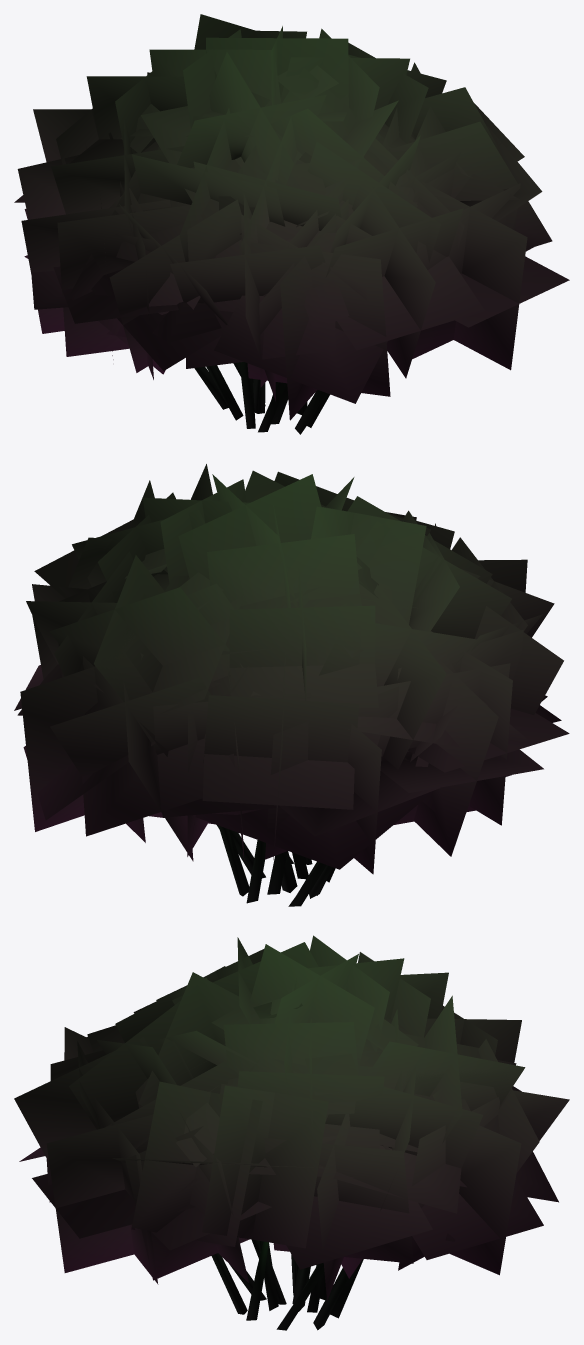
File: TSI_Amberleaf_Bush_01A.fbx
3 renders of one model, top to bottom at view 1: azimuth 30°, elevation 25°; view 2: azimuth 150°, elevation 25°; view 3: azimuth 270°, elevation 25°, orthographic. The views are drawn at different scales.
Visible parts, largest first — view 1: TSI_Amberleaf_Bush_01A_LOD0; view 2: TSI_Amberleaf_Bush_01A_LOD0; view 3: TSI_Amberleaf_Bush_01A_LOD0.
Boxes of the visible parts, x1,y1,x2,y2 form: TSI_Amberleaf_Bush_01A_LOD0: (14,14,569,434); TSI_Amberleaf_Bush_01A_LOD0: (14,464,569,906); TSI_Amberleaf_Bush_01A_LOD0: (14,935,569,1330).
Bounding box in the file's own units: 247 × 195 × 267.
